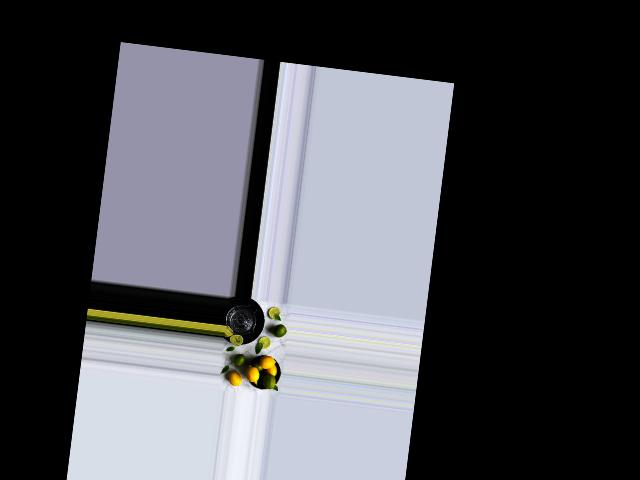lemon: (273, 323, 286, 339)
